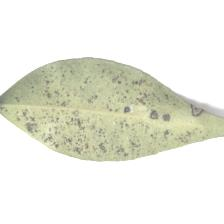Melanose: (43, 77, 131, 155)
